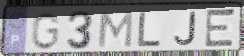3: (65, 10, 96, 52)
E: (203, 7, 238, 49)
G: (30, 11, 62, 51)
J: (173, 11, 198, 48)
L: (136, 11, 163, 48)
M: (96, 10, 135, 49)
